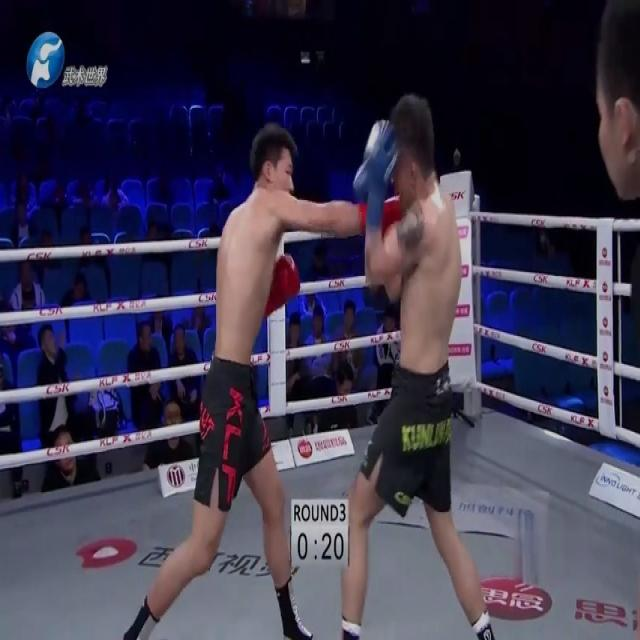fight: (124, 91, 496, 640)
